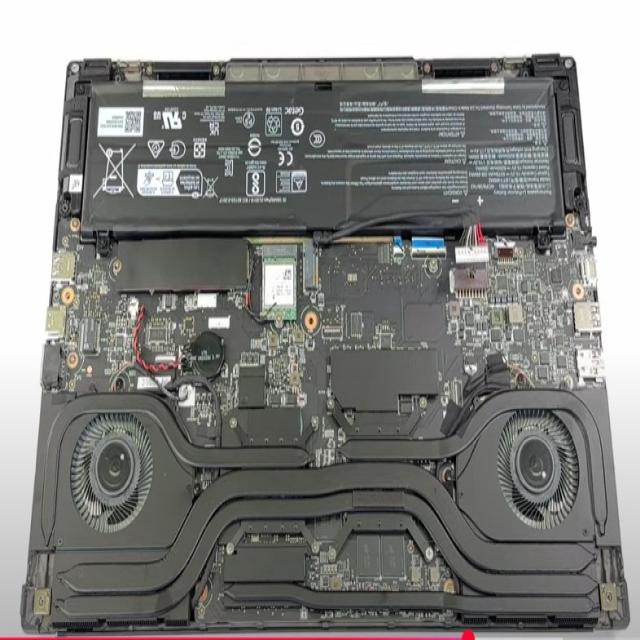Battery: (116, 240, 250, 294)
RAM: (88, 88, 559, 224)
